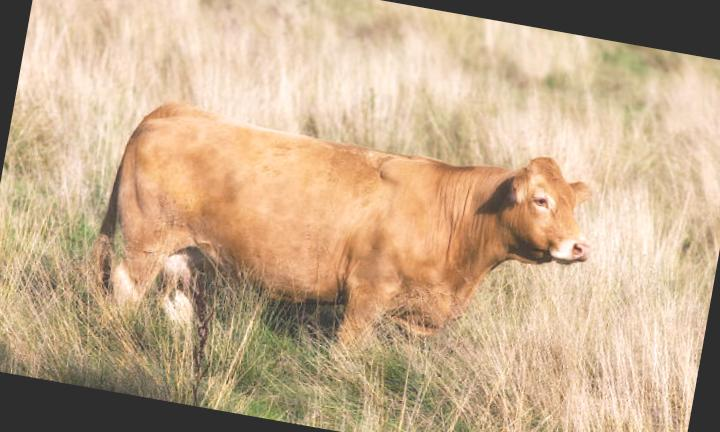Charolais: (97, 105, 590, 340)
